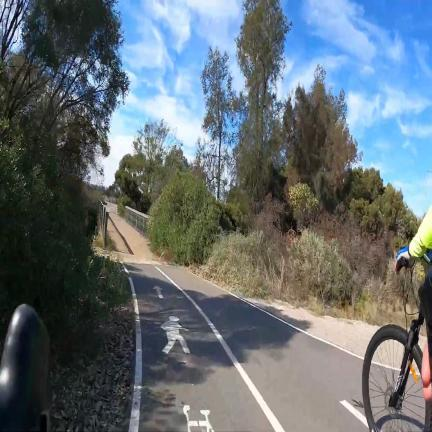Bike_Lane: (127, 264, 366, 432)
